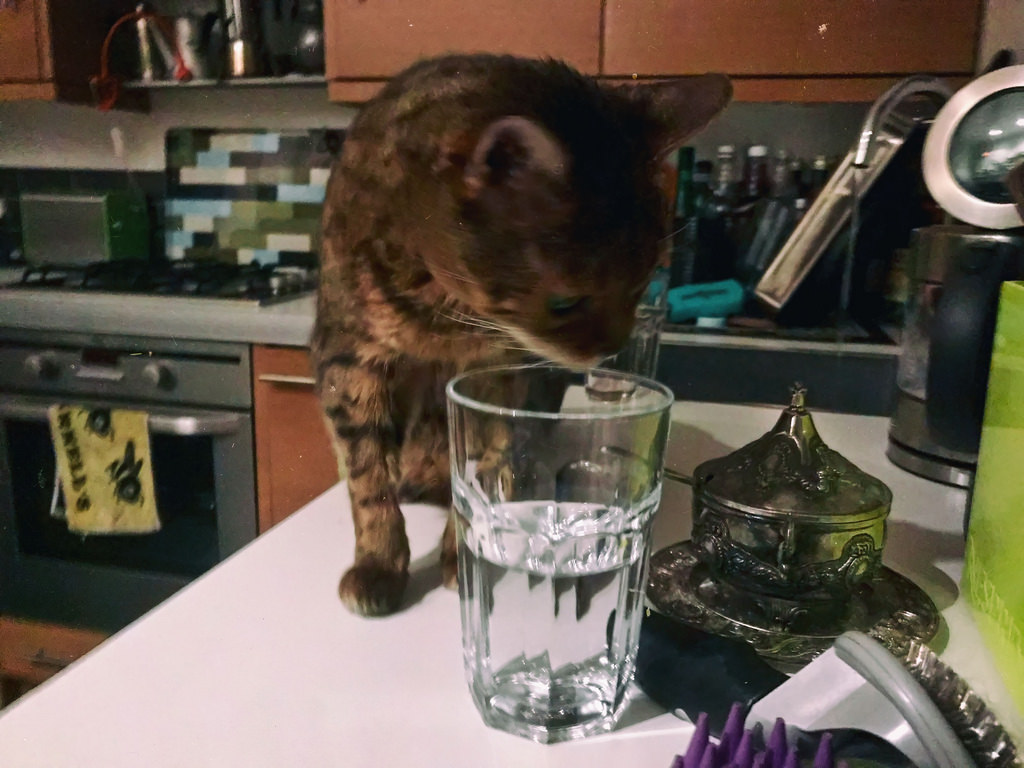glass of water: (455, 373, 650, 730)
